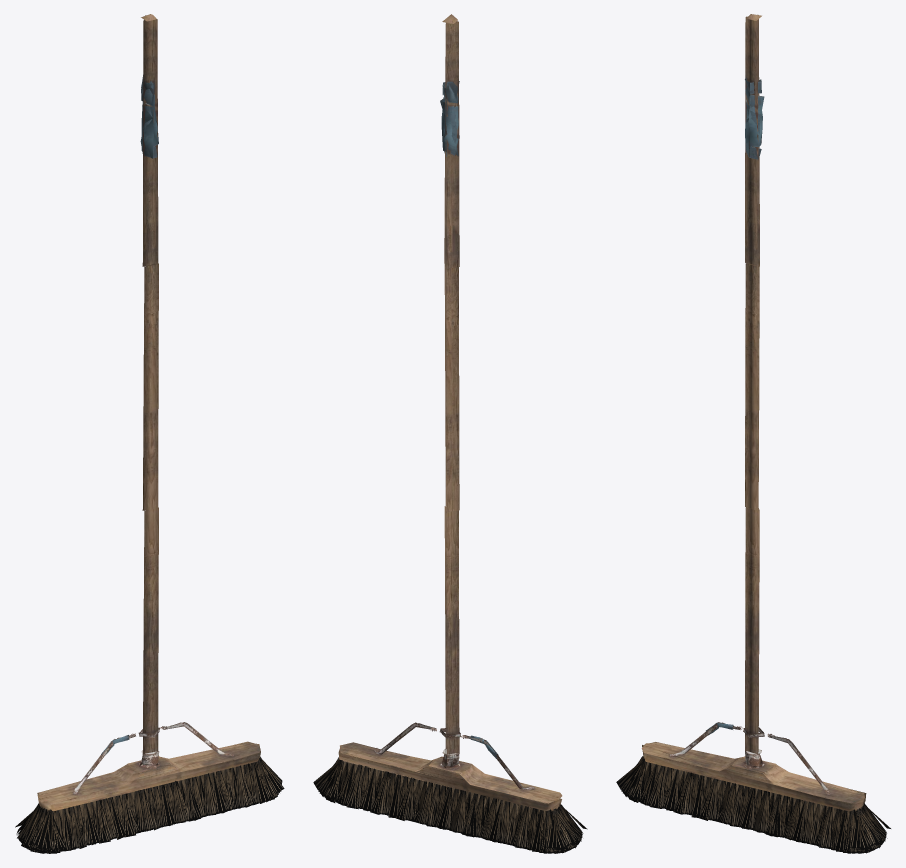
Rendered from ph_wooden_broom.glb.
The picture shows the model from 3 angles, left to right: view 1: azimuth 30°, elevation 25°; view 2: azimuth 150°, elevation 25°; view 3: azimuth 330°, elevation 25°; orthographic projection.
Parts seen in each view (by area): view 1: wooden_broom_bristles; view 2: wooden_broom_bristles; view 3: wooden_broom_bristles.
Boxes of the visible parts, left/top/right/bottom form: wooden_broom_bristles: left=15, top=14, right=284, bottom=853; wooden_broom_bristles: left=313, top=14, right=587, bottom=853; wooden_broom_bristles: left=616, top=14, right=890, bottom=853.
Size of the model in its own units: 0.4876 by 1.45 by 0.1125.
Materials: 2 (2 with a texture image).
